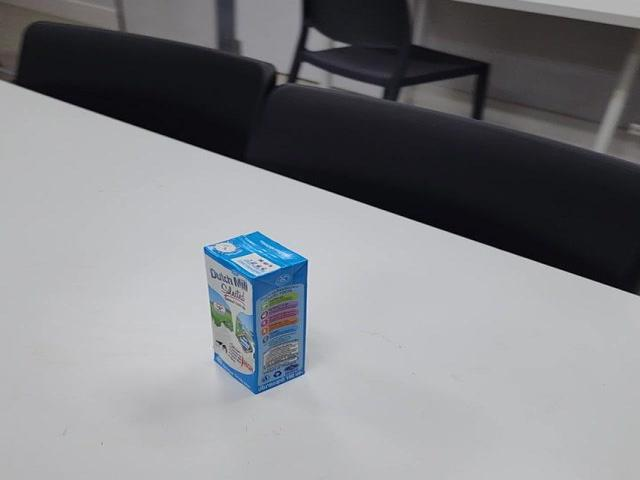drink_box: (196, 226, 316, 398)
